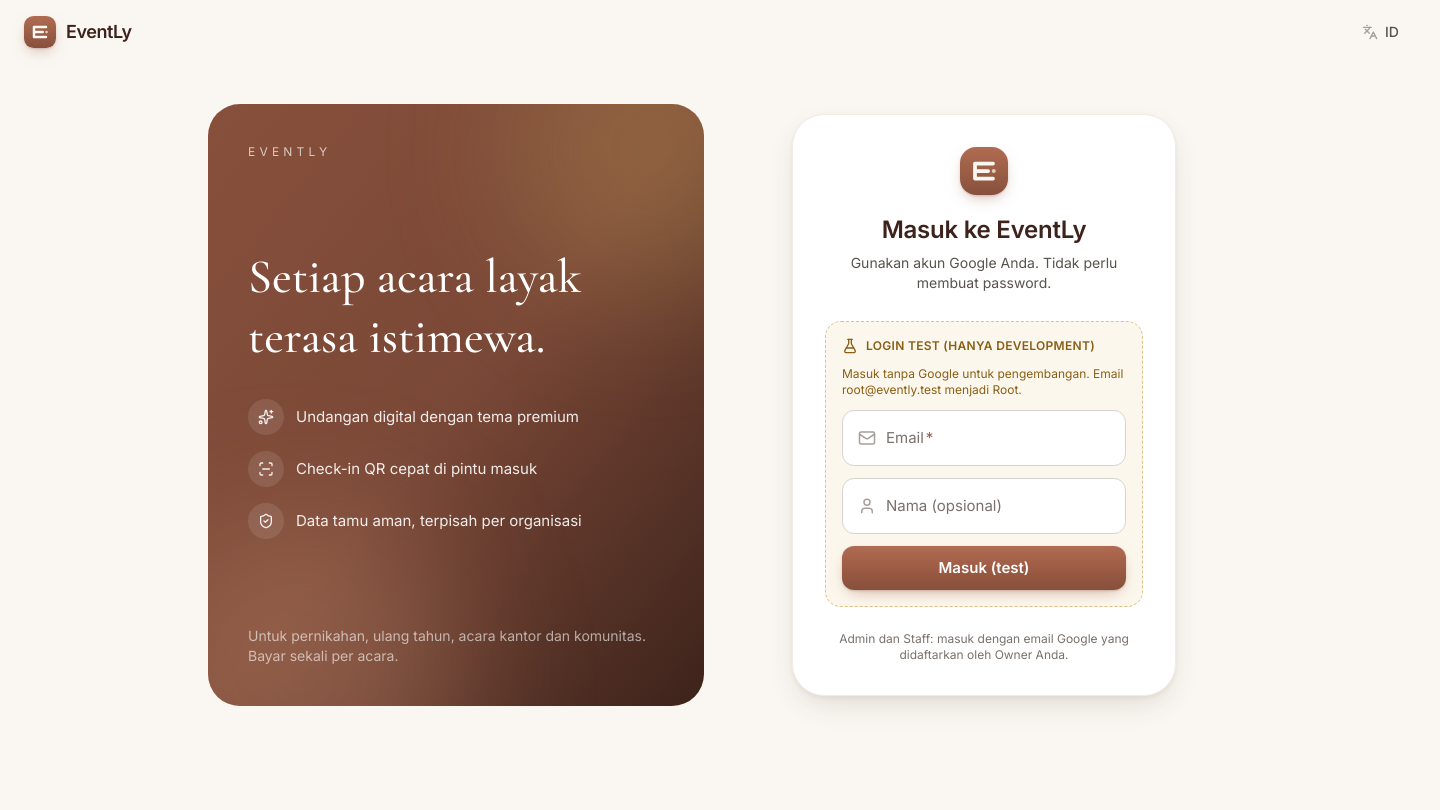
Test: LoginPage › shows a readable message when the account is disabled
Type "off@example.test" into the field labelled "Email" at x=984, y=438, box [842,410,1126,466]
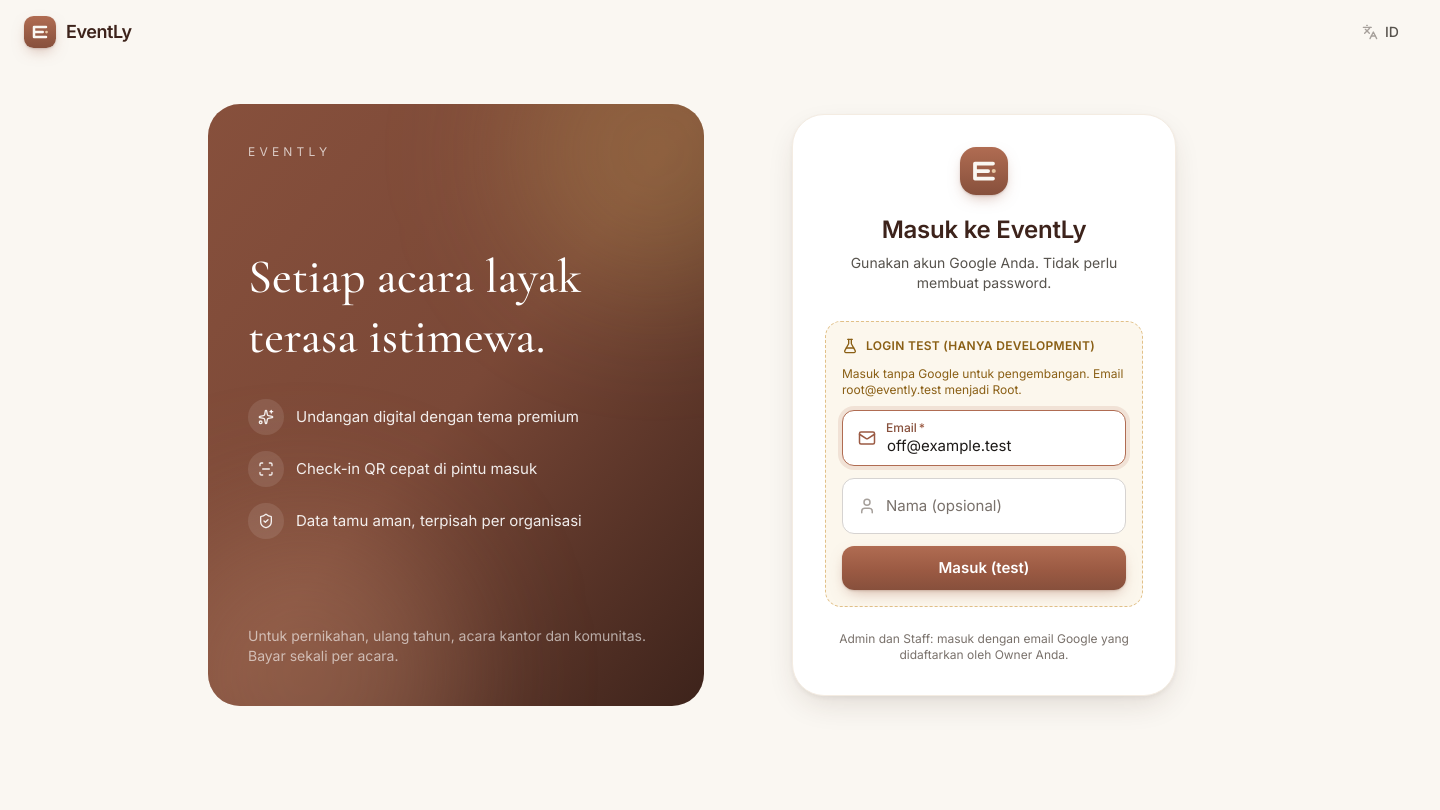
Click the button "Masuk (test)" at x=984, y=568, box [842,546,1126,590]
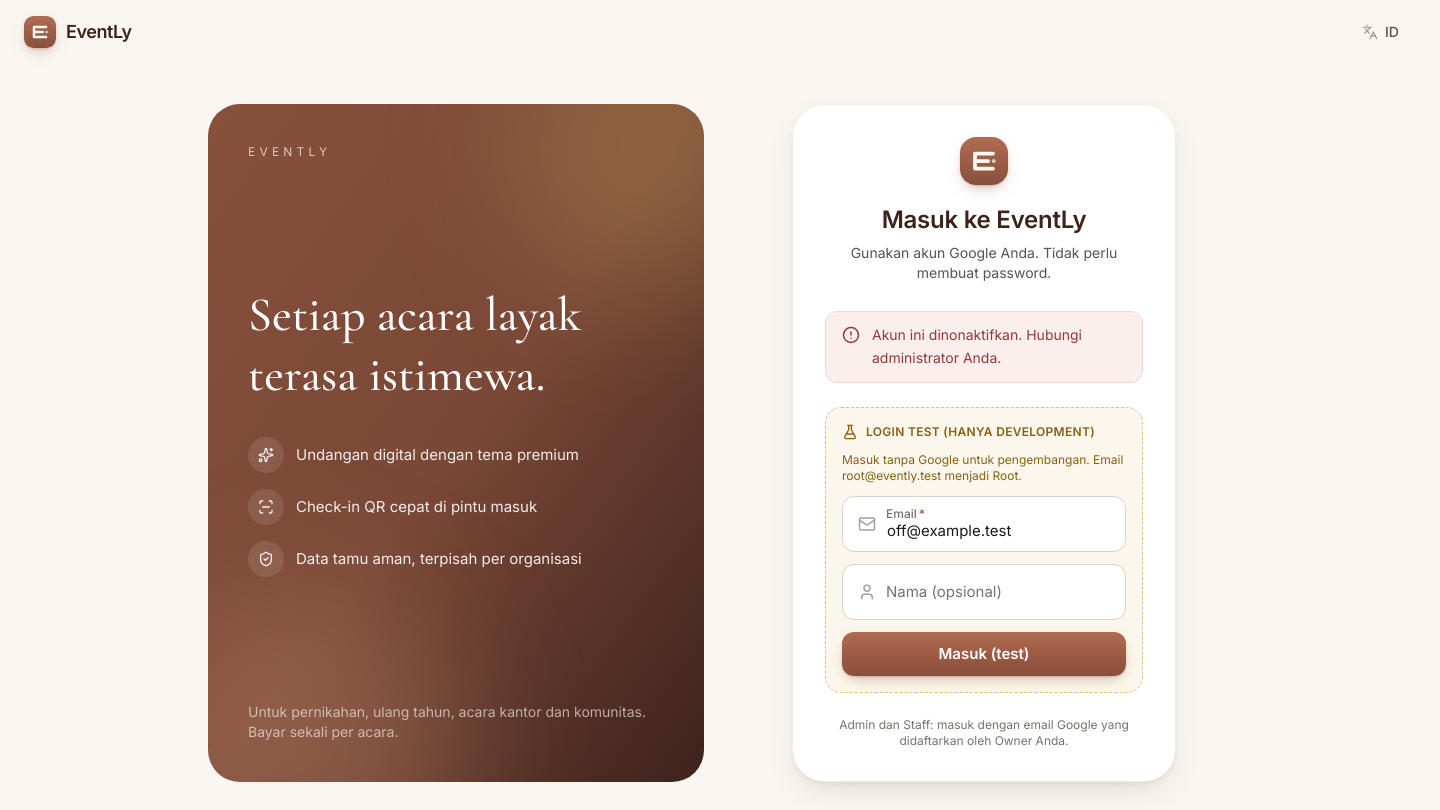
Result: the message shows "Akun ini dinonaktifkan" at [872,326,1082,366]
